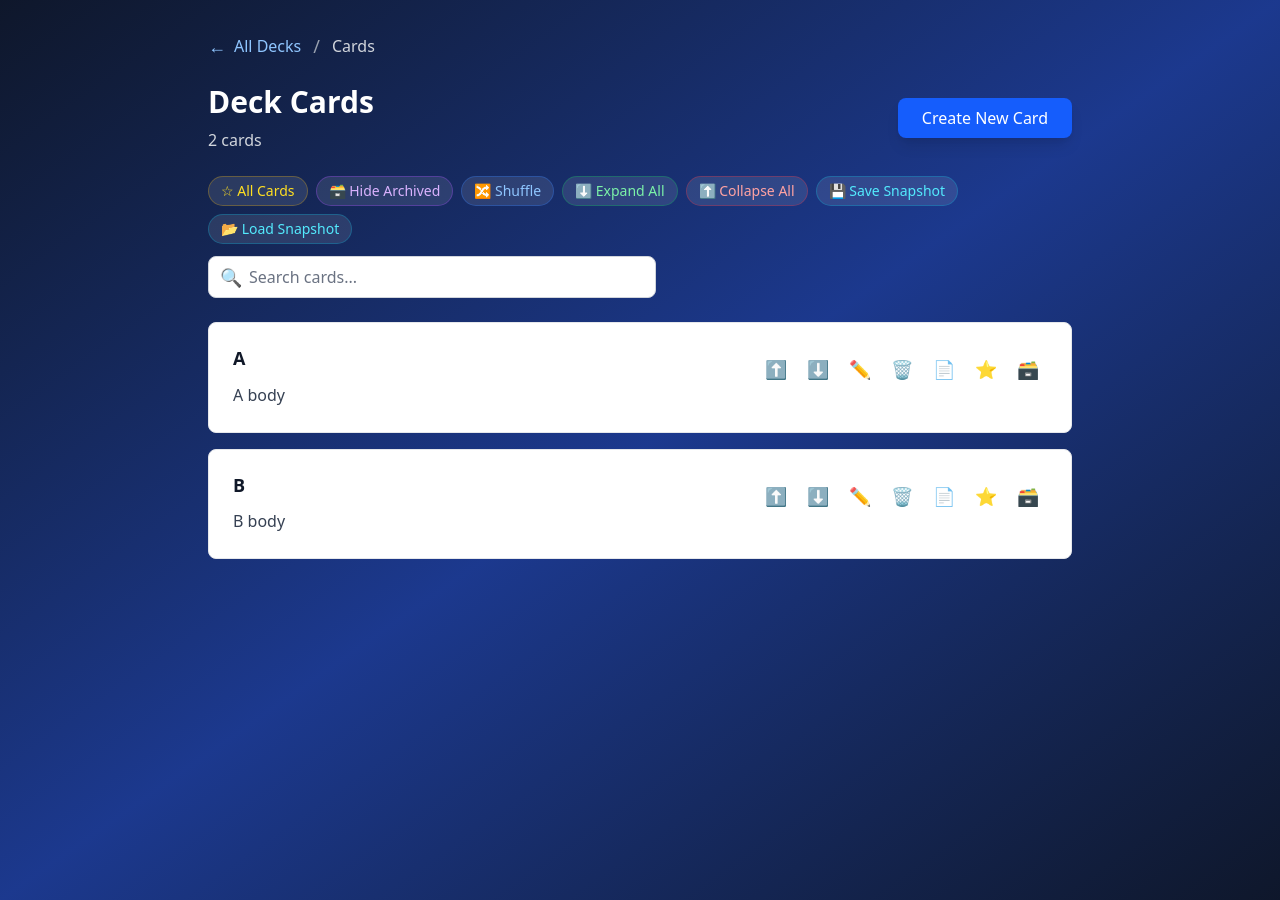
Test case: CardScreen - Snapshot management (rename/delete) › renames a snapshot and updates UI list
Click the button "📂 Load Snapshot" at [280, 229], box [208, 214, 352, 244]
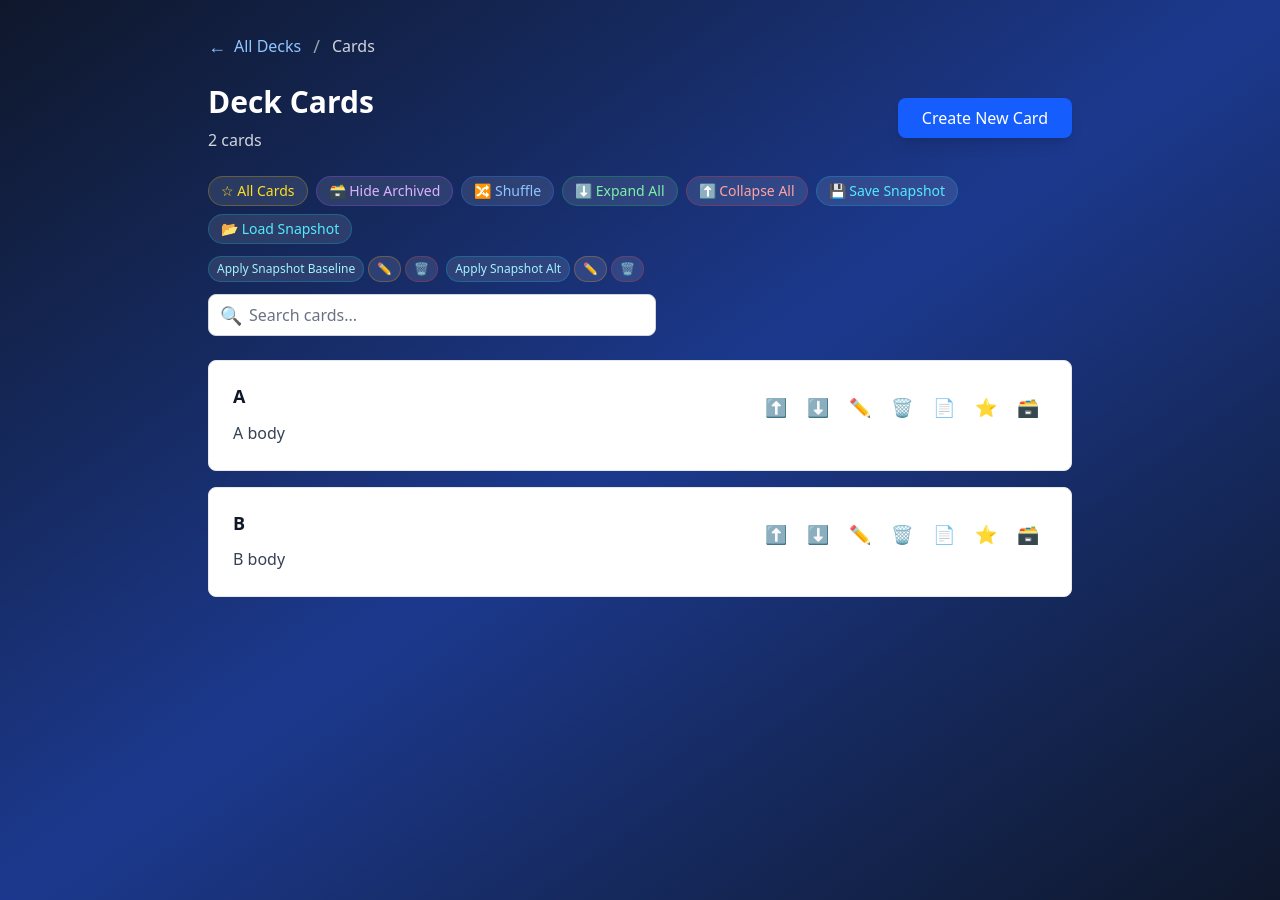
Click the button named "rename snapshot baseline" at [385, 269], box [368, 256, 401, 282]
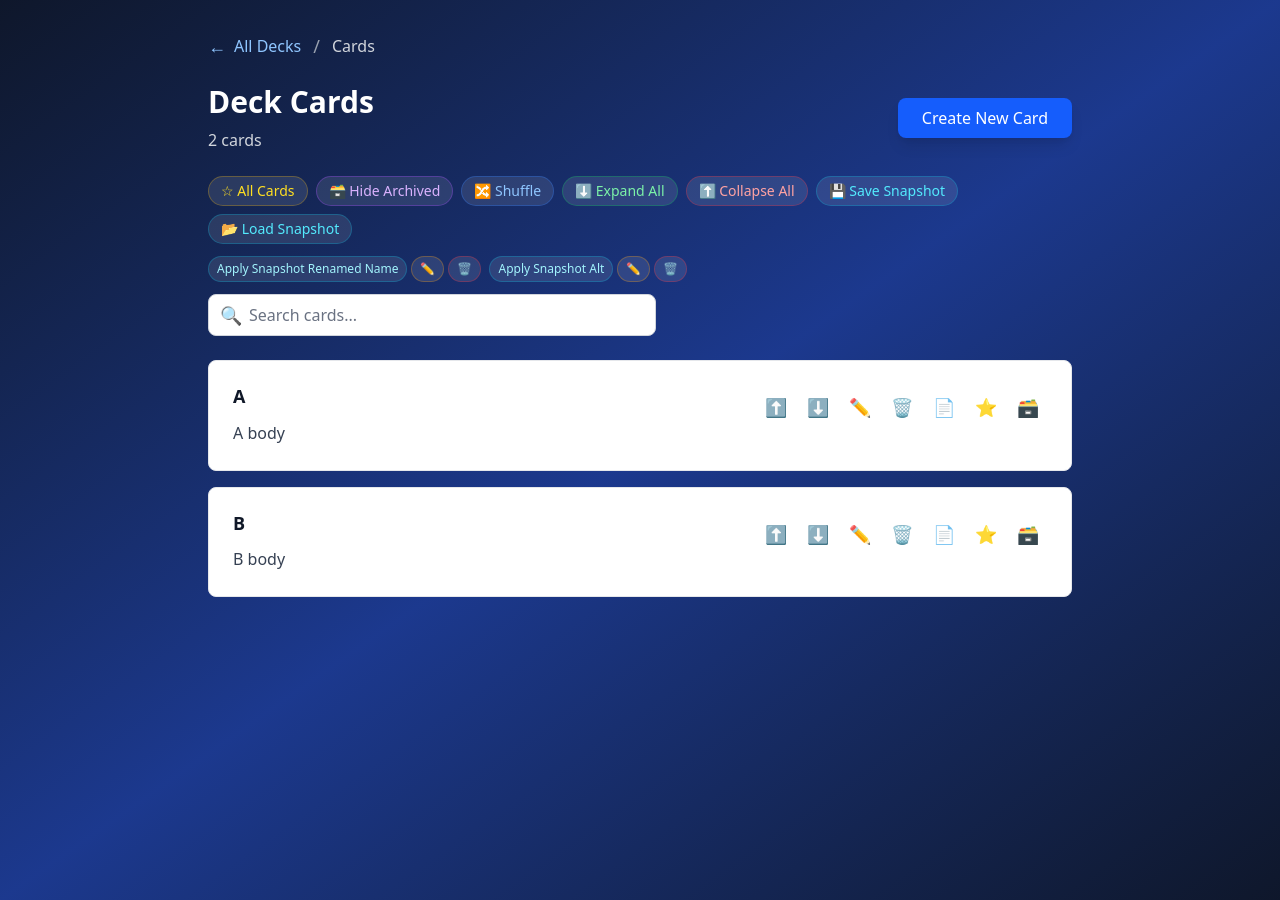
Expected: the button "Apply Snapshot Renamed Name" is shown, [208, 256, 408, 282]
